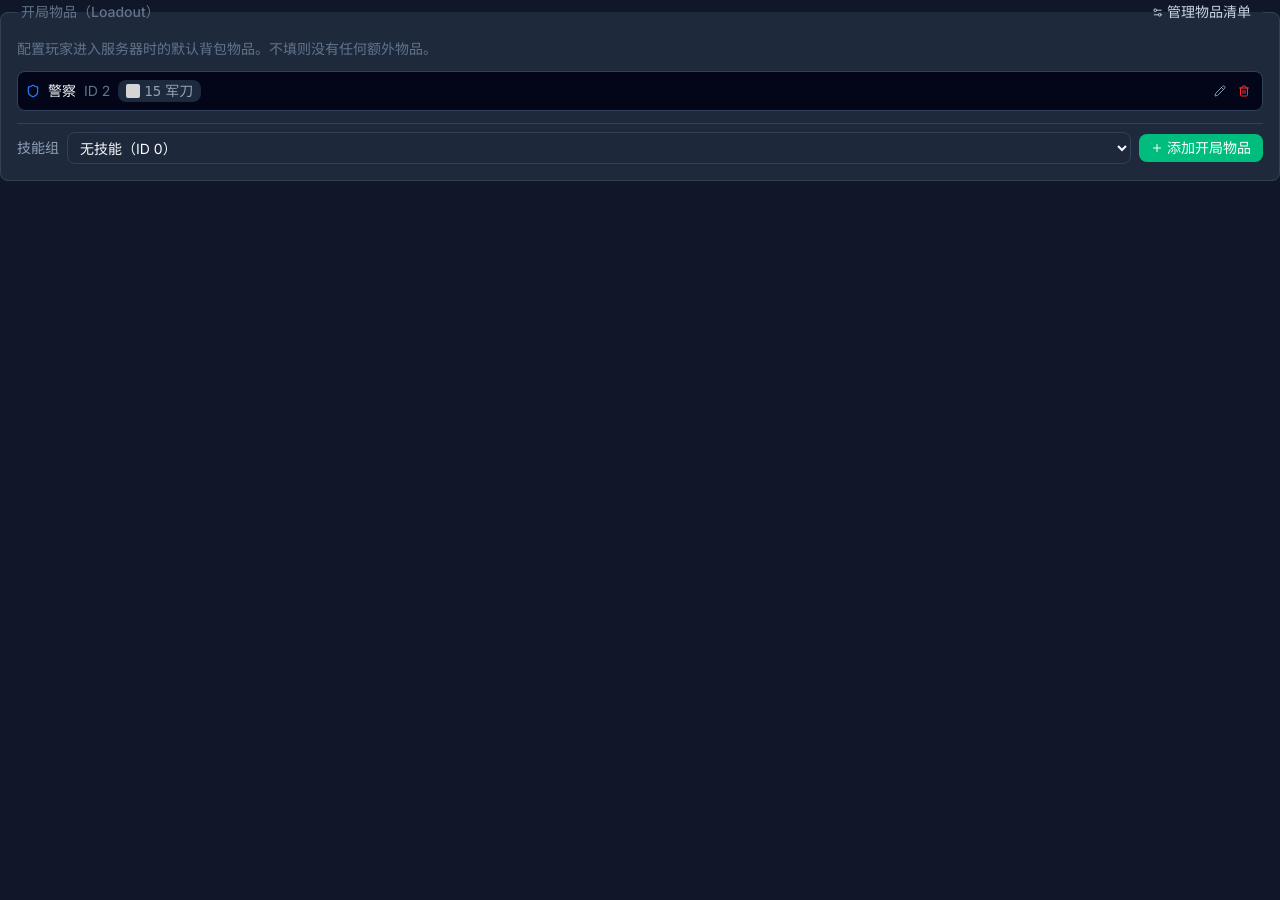
Test case: LoadoutEditor — 开局物品编辑 › 编辑条目 → 打开物品选择 dialog 预填已有标签
Step 1. Click the button named "编辑 警察" → (1220, 91), box [1210,81,1230,101]
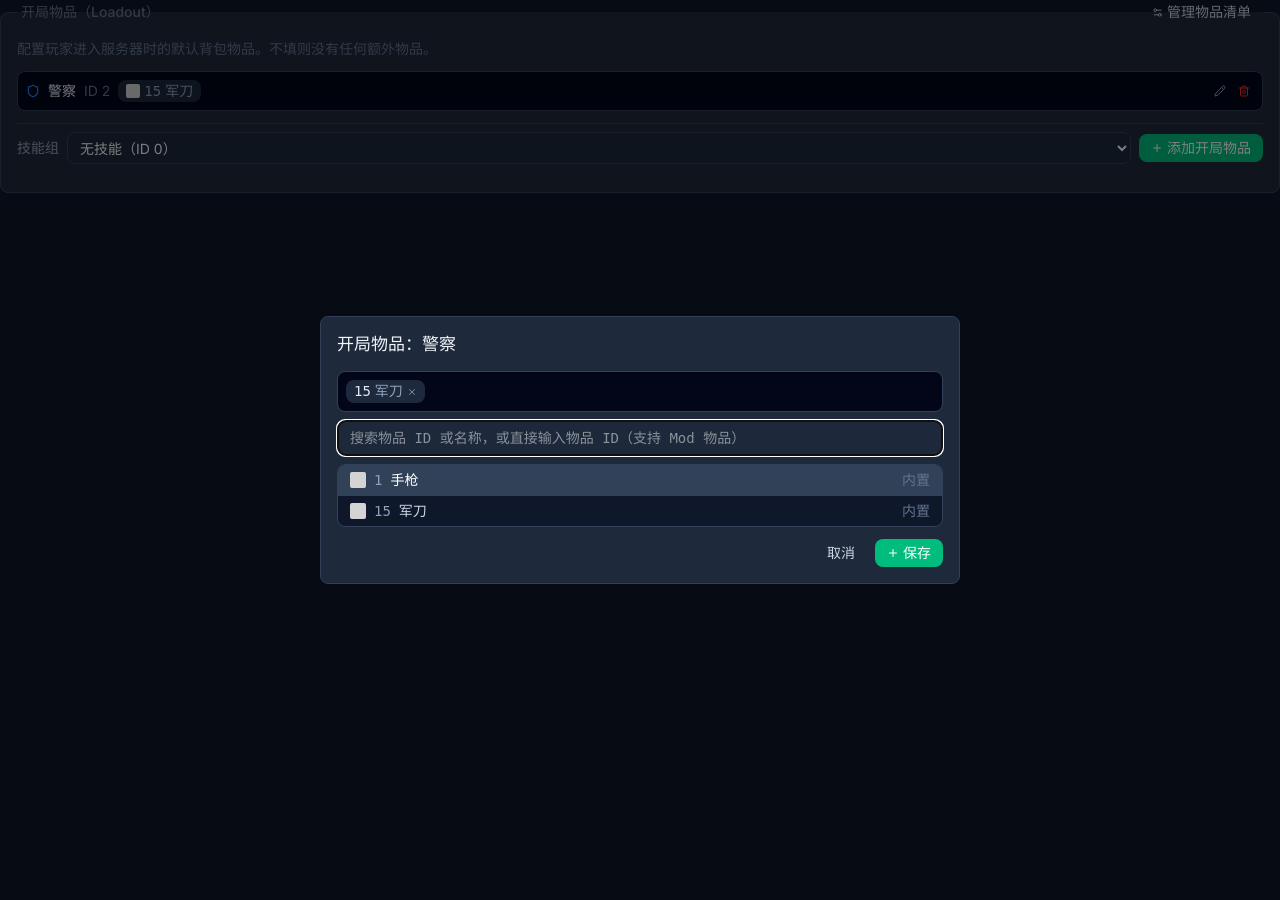
Check: the 1st text "15" is shown, box [354,382,371,401]
Check: the 1st text "军刀" is shown, box [375,382,403,401]
